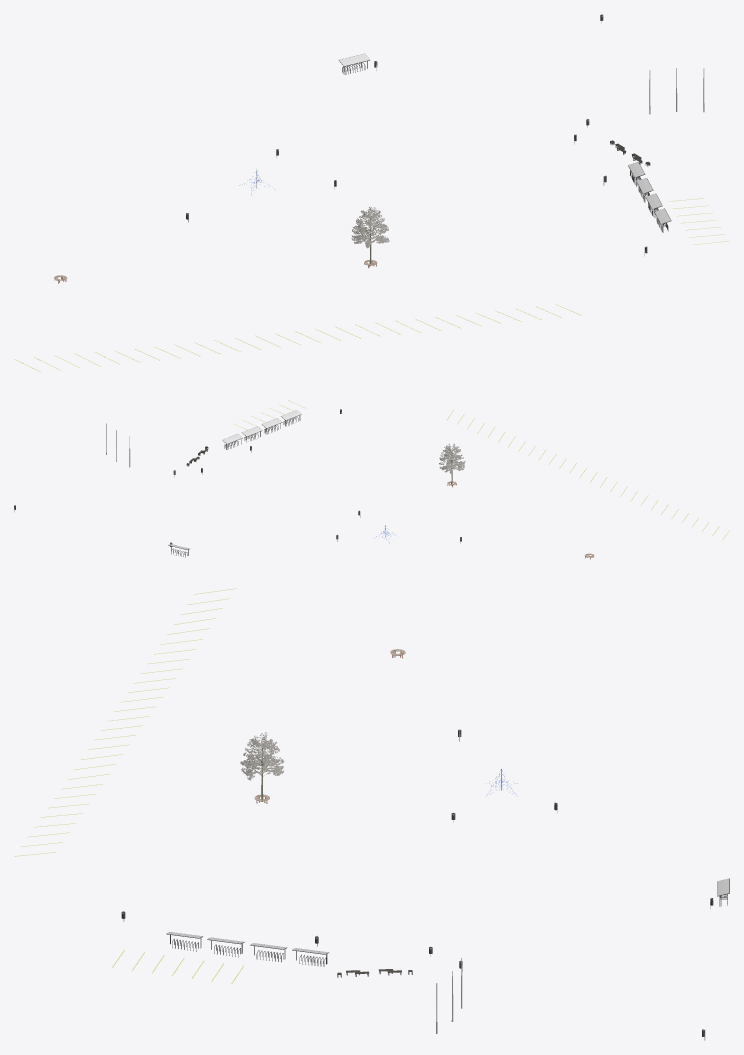
3 views of the same model, one above another, from view 1: azimuth 30°, elevation 25°; view 2: azimuth 150°, elevation 25°; view 3: azimuth 270°, elevation 25° (orthographic). The views are drawn at different scales.
Visible parts, largest first — view 1: 0DyWKpT7T4mu8w0cmYwzeo; view 2: 0DyWKpT7T4mu8w0cmYwzeo; view 3: 0DyWKpT7T4mu8w0cmYwzeo.
Part boxes in pixels (x1,y1,x2,y2): 0DyWKpT7T4mu8w0cmYwzeo: (351,206,389,265); 0DyWKpT7T4mu8w0cmYwzeo: (439,443,465,484); 0DyWKpT7T4mu8w0cmYwzeo: (240,732,284,801).
Bounding box in the file's own units: 133 × 9.21 × 89.91.
